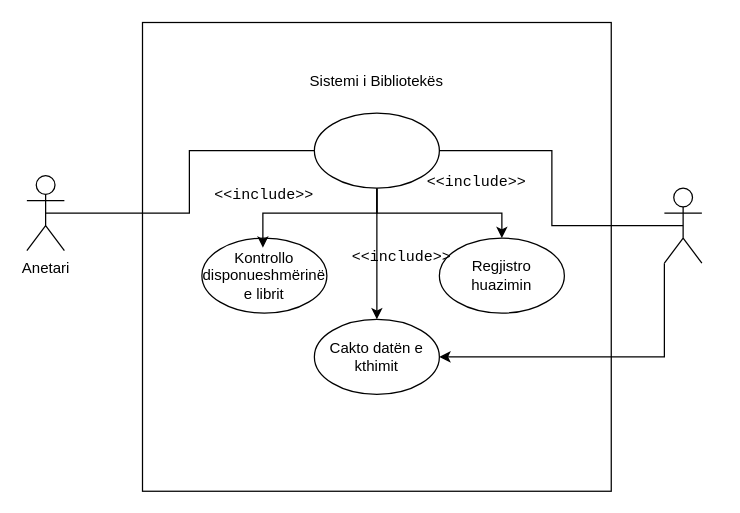
The diagram is 740 pixels wide and 513 high, and some of its shapes have lost their labels. The shapes that lost their labels are listed below. From the top down, each one's centre as x and y in pixels, then its label:
At point 376,150: "Huazo libër".
At point 682,225: "Biblotekisti".
